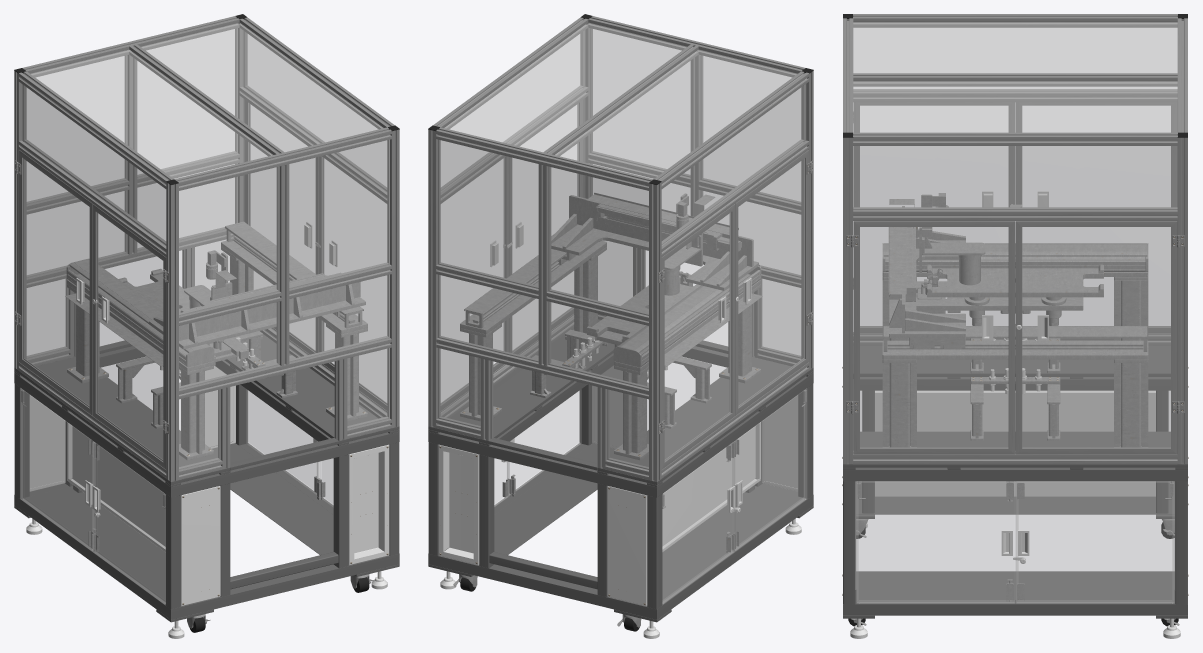
The picture shows the model from 3 angles, left to right: view 1: azimuth 30°, elevation 25°; view 2: azimuth 150°, elevation 25°; view 3: azimuth 270°, elevation 25°; orthographic projection. The views are drawn at different scales.
Visible parts, largest first — view 1: 06_acryl, 06_frame_almi, 06_frame_paint, 06_panel, 06_machine, 06_machine2, 06_machine4, 06_chrome, 06_sus, 06_machine3, 06_leg; view 2: 06_acryl, 06_frame_almi, 06_frame_paint, 06_panel, 06_machine, 06_machine2, 06_machine4, 06_chrome, 06_sus, 06_machine3, 06_leg; view 3: 06_acryl, 06_frame_almi, 06_frame_paint, 06_machine, 06_panel, 06_machine4, 06_machine2, 06_chrome, 06_sus, 06_machine3, 06_hinge.
Boxes of the visible parts, <box> form: 06_acryl: <box>20,23,389,603</box>; 06_frame_almi: <box>14,16,399,481</box>; 06_frame_paint: <box>14,334,399,622</box>; 06_panel: <box>29,366,389,605</box>; 06_machine: <box>65,221,367,460</box>; 06_machine2: <box>149,272,365,349</box>; 06_machine4: <box>118,269,248,365</box>; 06_chrome: <box>76,222,337,517</box>; 06_sus: <box>21,389,374,628</box>; 06_machine3: <box>206,250,236,299</box>; 06_leg: <box>26,519,387,638</box>; 06_acryl: <box>438,23,807,603</box>; 06_frame_almi: <box>428,16,813,481</box>; 06_frame_paint: <box>428,319,813,622</box>; 06_panel: <box>438,365,798,605</box>; 06_machine: <box>460,241,762,460</box>; 06_machine2: <box>551,193,758,290</box>; 06_machine4: <box>587,235,701,347</box>; 06_chrome: <box>490,222,751,512</box>; 06_sus: <box>453,389,806,627</box>; 06_machine3: <box>676,193,714,266</box>; 06_leg: <box>440,519,801,638</box>; 06_acryl: <box>853,22,1177,603</box>; 06_frame_almi: <box>843,14,1187,464</box>; 06_frame_paint: <box>843,345,1187,618</box>; 06_machine: <box>882,243,1148,447</box>; 06_panel: <box>855,390,1175,589</box>; 06_machine4: <box>916,237,1103,325</box>; 06_machine2: <box>888,206,965,349</box>; 06_chrome: <box>982,191,1048,563</box>; 06_sus: <box>851,481,1179,625</box>; 06_machine3: <box>889,193,948,273</box>; 06_hinge: <box>846,112,1184,414</box>.
Size of the model in its own units: 1.16 by 2.18 by 1.35.
8 materials, 3 textured.
